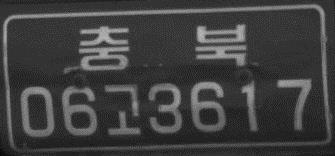0: (19, 84, 57, 139)
1: (237, 80, 264, 135)
3: (146, 81, 184, 136)
6: (188, 79, 227, 135), (59, 83, 99, 137)
7: (273, 76, 315, 135)
고: (99, 81, 142, 137)
충북_D: (76, 20, 250, 75)
